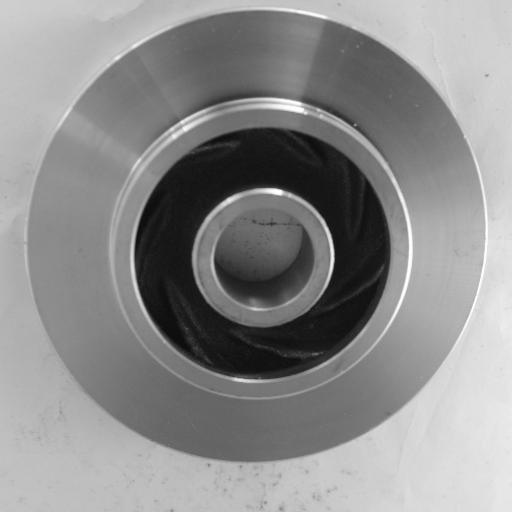polished_casting: (25, 8, 488, 467)
